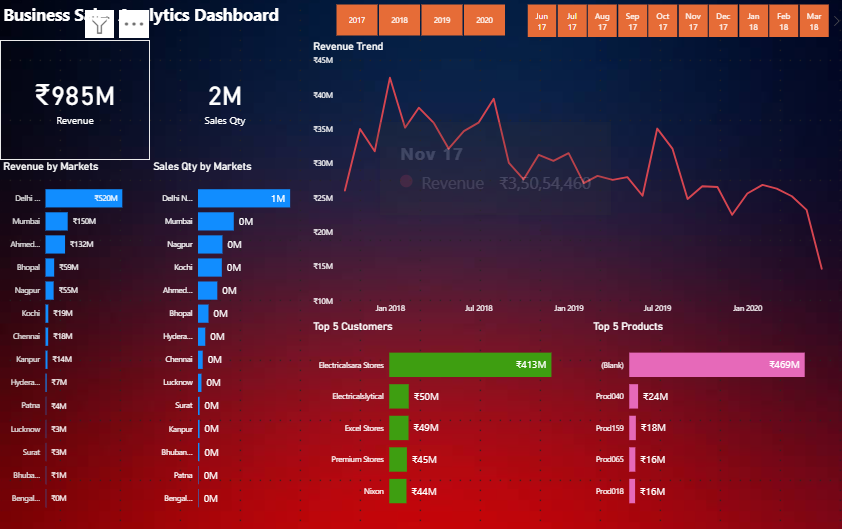

This screenshot's page, from the dashboard's own definition file:
{"tool":"powerbi","page":{"name":"Key Insights","canvas":[1350,850],"ordinal":0},"visuals":[{"type":"card","fields":{"Values":["BaseMeasures (2).Revenue"]},"box":[0,64,240,192],"z":0},{"type":"card","fields":{"Values":["BaseMeasures (2).Sales Qty"]},"box":[240,64,240,192],"z":1000},{"type":"barChart","title":"Revenue by Markets","fields":{"Y":["BaseMeasures (2).Revenue"],"Category":["sales markets.markets_name"]},"box":[0,256,240,576],"z":2000},{"type":"barChart","title":"Sales Qty by Markets","fields":{"Y":["BaseMeasures (2).Sales Qty"],"Category":["sales markets.markets_name"]},"box":[240,256,256,576],"z":3000},{"type":"slicer","fields":{"Values":["sales date.year"]},"box":[512,0,320,64],"z":4000},{"type":"slicer","fields":{"Values":["sales date.cy_date"]},"box":[818.6,0,531.7,66.5],"z":5000},{"type":"barChart","title":"Top 5 Customers","fields":{"Y":["BaseMeasures (2).Revenue"],"Category":["sales customers.custmer_name"]},"box":[496,512,448,320],"z":6000},{"type":"barChart","title":"Top 5 Products","fields":{"Y":["BaseMeasures (2).Revenue"],"Category":["sales products.product_code"]},"box":[944,512,400,320],"z":7000},{"type":"lineChart","title":"Revenue Trend","fields":{"Y":["BaseMeasures (2).Revenue"],"Category":["sales date.cy_date"]},"box":[496,64,848,448],"z":8000},{"type":"textbox","box":[0,0,496,48],"z":9000}]}

Visuals, with their boxes on the page's 1350x850 design canvas (x1, y1, x2, y2). These are canvas units, not pixel positions in the 842x529 screenshot, which may show the page scaled, cropped or inside an application window:
card - BaseMeasures (2).Revenue: 0:64:240:256
card - BaseMeasures (2).Sales Qty: 240:64:480:256
"Revenue by Markets" barChart: 0:256:240:832
"Sales Qty by Markets" barChart: 240:256:496:832
slicer - sales date.year: 512:0:832:64
slicer - sales date.cy_date: 819:0:1350:66
"Top 5 Customers" barChart: 496:512:944:832
"Top 5 Products" barChart: 944:512:1344:832
"Revenue Trend" lineChart: 496:64:1344:512
textbox: 0:0:496:48
